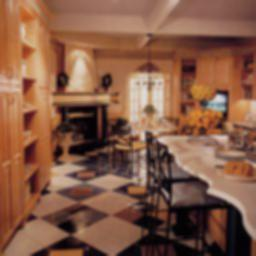Armario: (4, 25, 50, 236)
